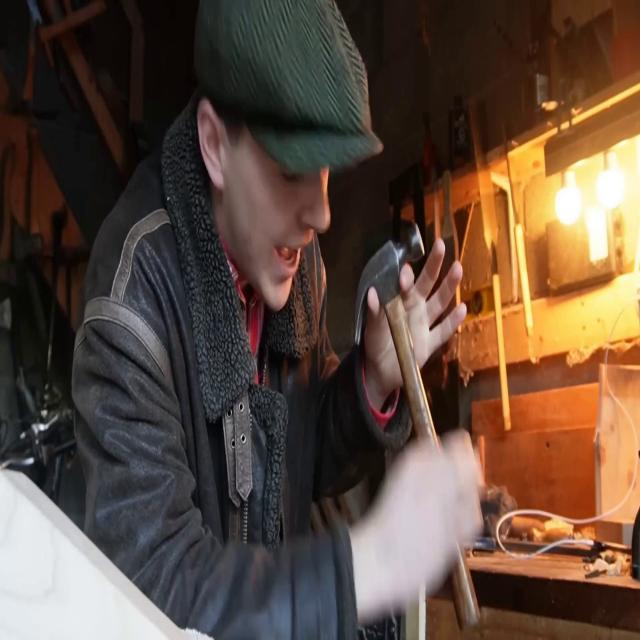hammer: (354, 223, 479, 631)
